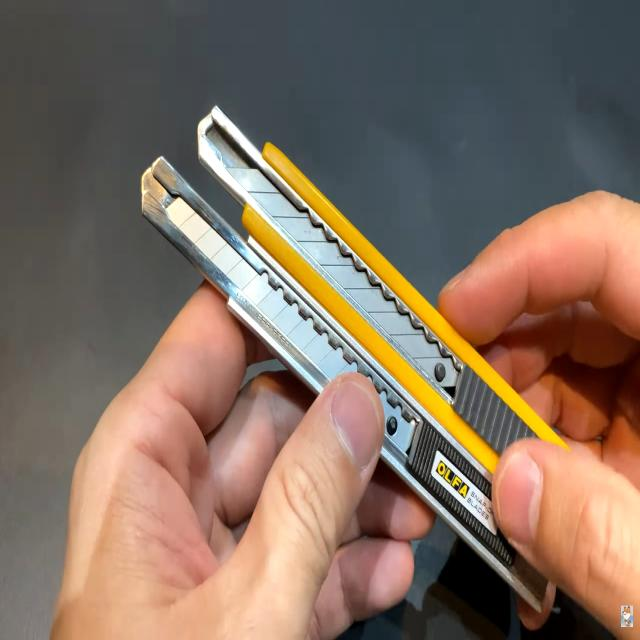cutter: (102, 0, 617, 640)
